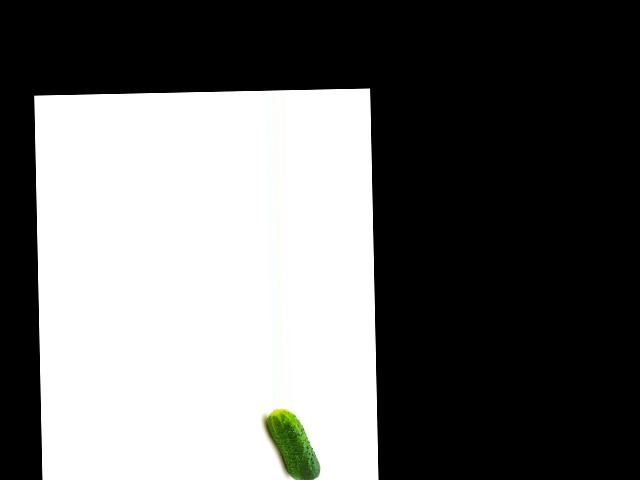cucumber: (266, 407, 320, 480)
